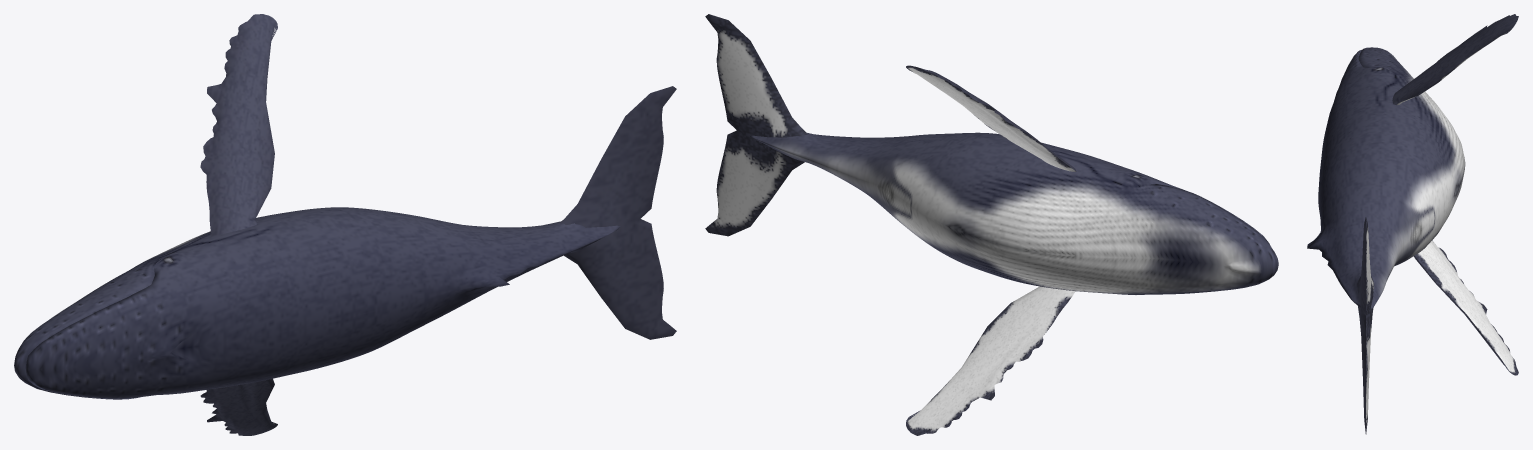
Rendered from whale.obj.
The picture shows the model from 3 angles, left to right: view 1: azimuth 30°, elevation 25°; view 2: azimuth 150°, elevation 25°; view 3: azimuth 270°, elevation 25°; orthographic projection. The views are drawn at different scales.
Bounding box in the file's own units: 39.96 × 24.43 × 13.15.
Materials: 1 (1 with a texture image).
